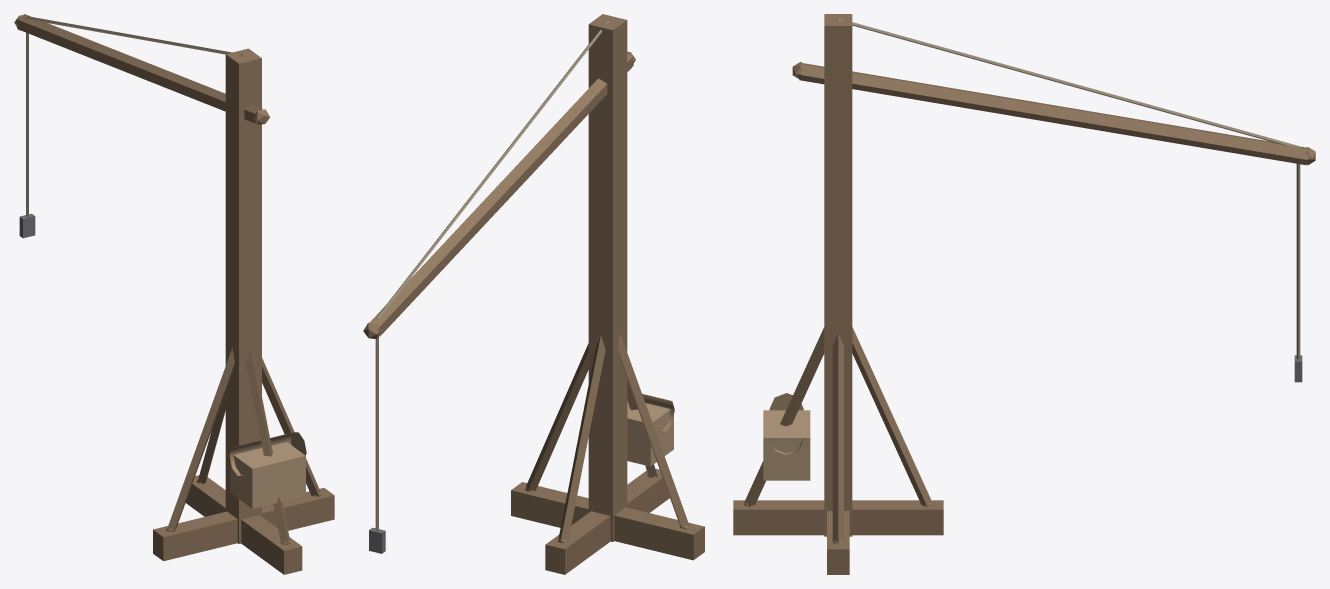
File: crane.glb
The picture shows the model from 3 angles, left to right: view 1: azimuth 30°, elevation 25°; view 2: azimuth 150°, elevation 25°; view 3: azimuth 270°, elevation 25°; orthographic projection. The views are drawn at different scales.
Parts seen in each view (by area): view 1: crane; view 2: crane; view 3: crane.
Part boxes in pixels (x1=…): crane: x1=14, y1=14, x2=334, y2=574; crane: x1=363, y1=14, x2=704, y2=574; crane: x1=733, y1=14, x2=1315, y2=574.
Bounding box in the file's own units: 2.24 × 6.02 × 6.21.
